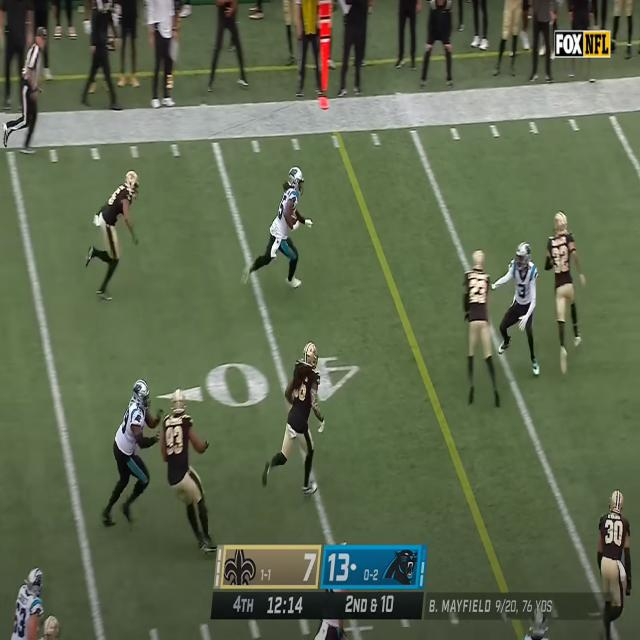players: (241, 167, 325, 297), (161, 381, 219, 555), (263, 328, 321, 496), (88, 157, 152, 307), (537, 195, 586, 378), (96, 381, 160, 516), (599, 466, 636, 640), (461, 246, 499, 410), (501, 236, 535, 384), (6, 561, 53, 640)
